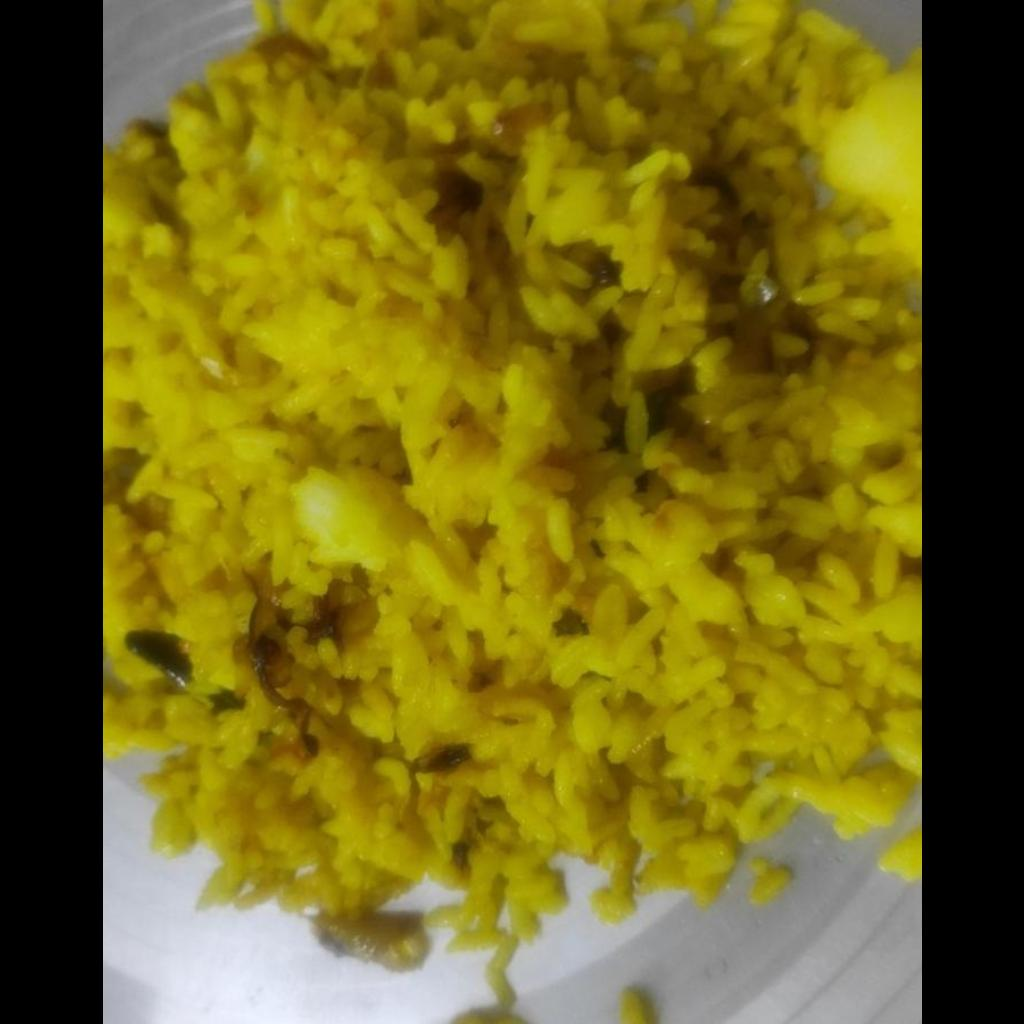khichuri: (103, 0, 920, 1006)
